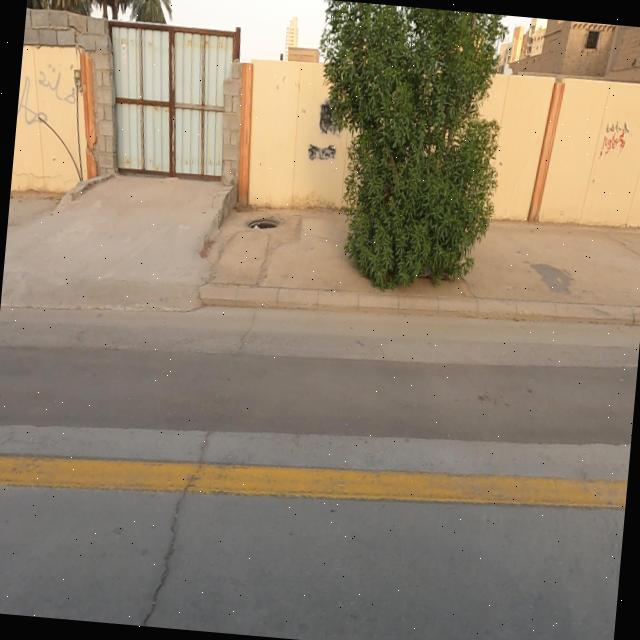Graffiti: (19, 61, 80, 131), (600, 120, 630, 162), (309, 141, 337, 164), (318, 95, 330, 134)
